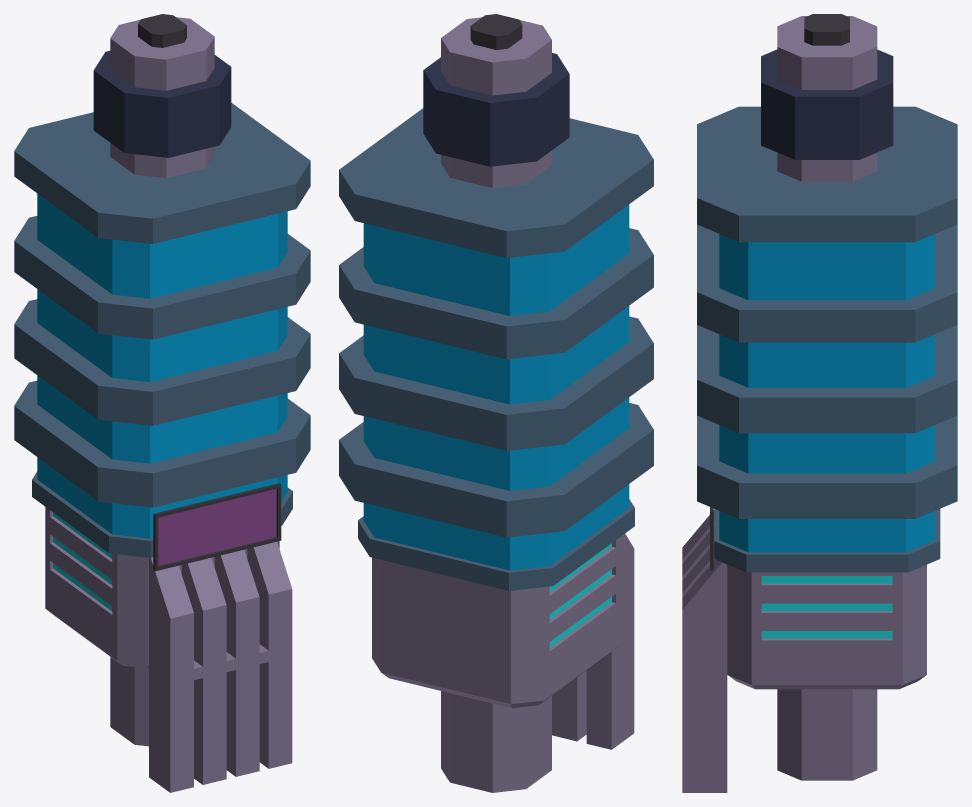
File: House5.fbx
3 views of the same model, side by side, from view 1: azimuth 30°, elevation 25°; view 2: azimuth 150°, elevation 25°; view 3: azimuth 270°, elevation 25° (orthographic). The views are drawn at different scales.
Parts seen in each view (by area): view 1: House_R_5; view 2: House_R_5; view 3: House_R_5.
Part boxes in pixels (left/top/right/bottom): House_R_5: left=14, top=14, right=310, bottom=792; House_R_5: left=339, top=14, right=653, bottom=792; House_R_5: left=682, top=14, right=957, bottom=792.
Bounding box in the file's own units: 1393 × 4401 × 1485.
